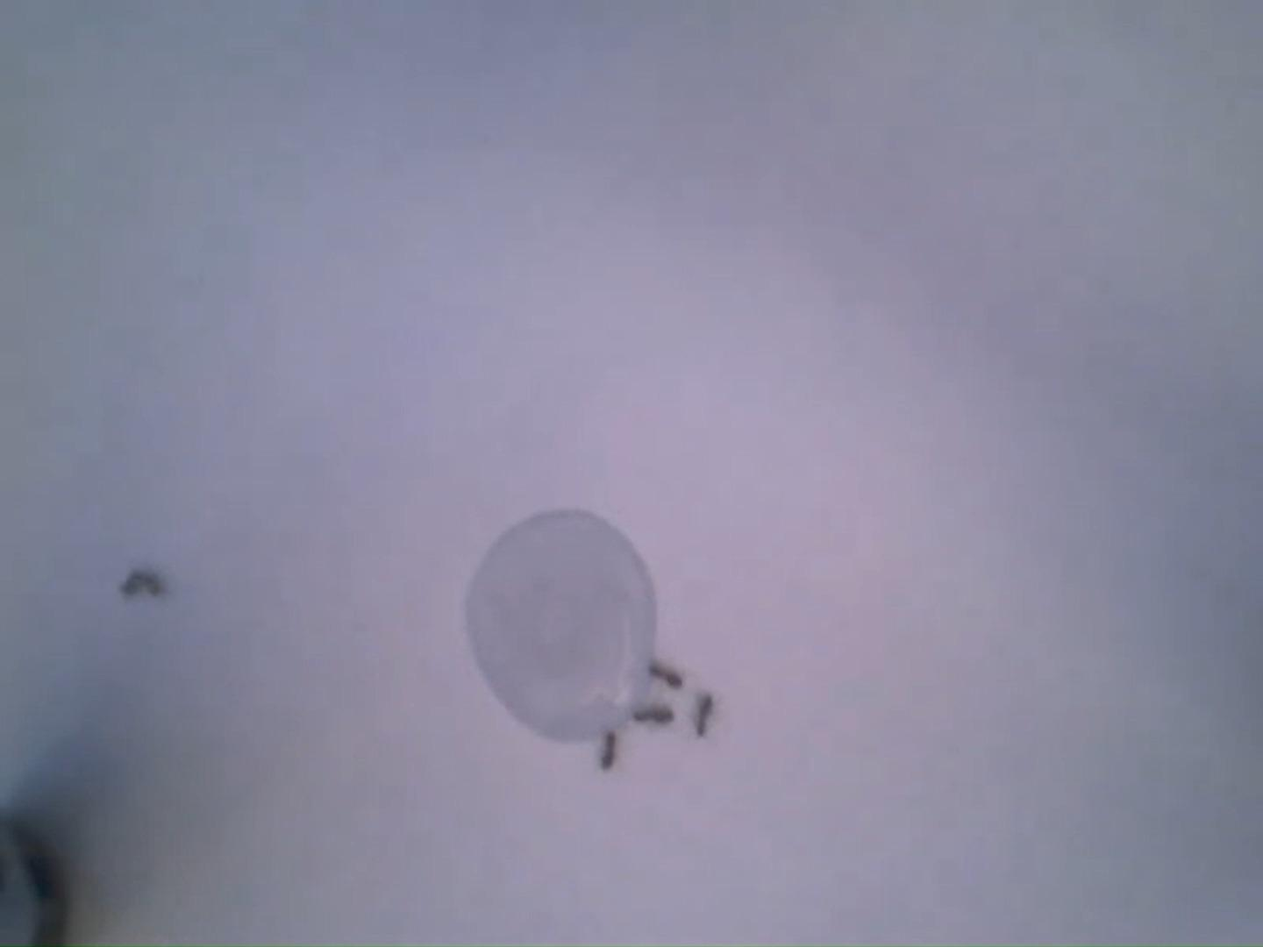Ant: (650, 661, 688, 689), (638, 701, 679, 726), (696, 692, 716, 735), (132, 572, 162, 597), (602, 731, 619, 771), (122, 573, 140, 596)
